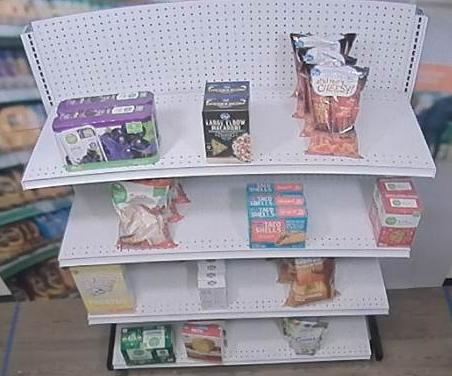stockout: (368, 66, 427, 163), (172, 180, 249, 247), (250, 81, 307, 161), (309, 177, 375, 246), (56, 188, 122, 254), (159, 83, 205, 164), (132, 264, 197, 310), (24, 103, 64, 173), (229, 258, 285, 307), (336, 258, 389, 306), (227, 321, 284, 356), (330, 318, 368, 354)
